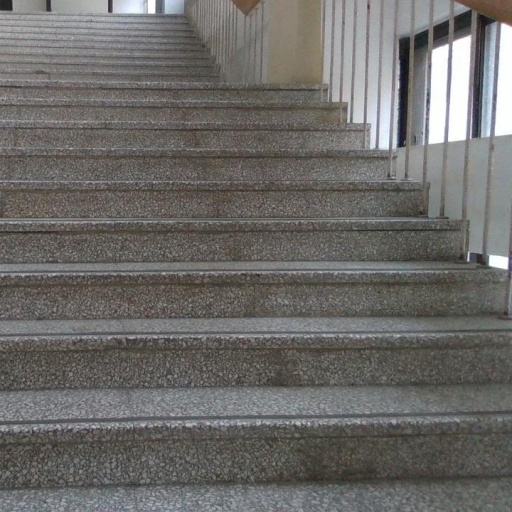Stairs: (1, 72, 512, 512)
